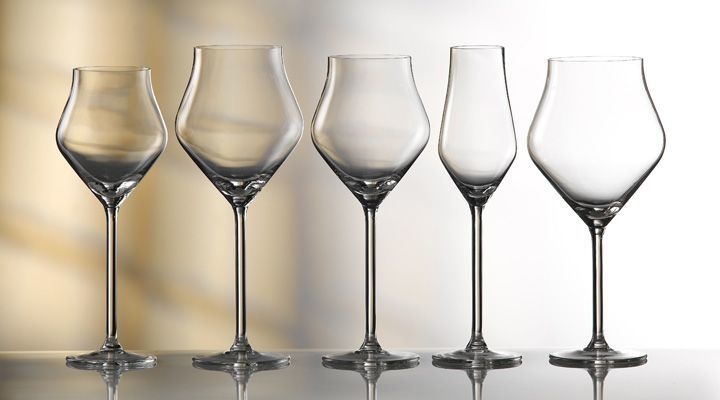Nonrec_Glass: (178, 30, 307, 380), (533, 36, 661, 378), (45, 51, 174, 379), (317, 34, 429, 379), (436, 33, 528, 378)
